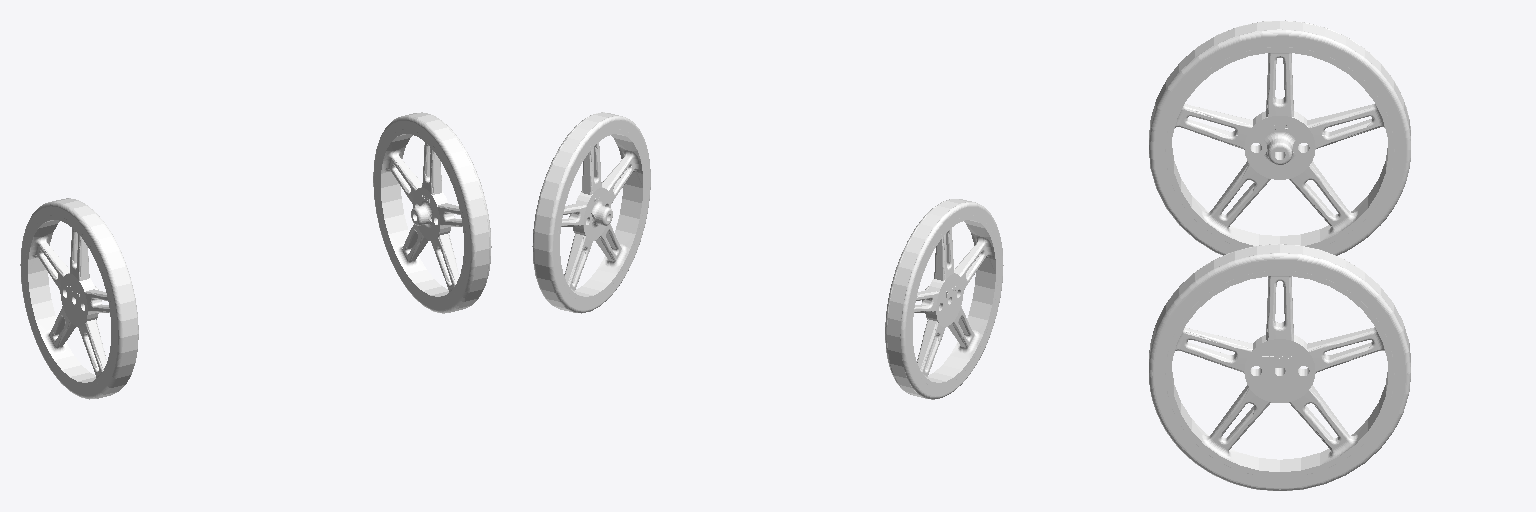
The robot description file, URDF, robot "romi_white":
<?xml version="1.0"?>
     <robot name="romi_white">

<!-- ~~~~~~~~~~~~~~~~ LINKS ~~~~~~~~~~~~~~~~ -->
<!-- LINK 1: CHASSIS BASE -->
<link name="chassis">
<origin xyz="0 0 0" rpy="0 0 0"/>
     <!-- COLLISION OF CHASSIS BASE -->
     <collision name="chassis_collision">
          <origin xyz="0.00975 0.078 0.0815" rpy="0 0 0"/>
          <geometry>
               <cylinder length="0.0195" radius="0.0815"/>
          </geometry>
     </collision>
     <!-- VISUAL OF CHASSIS BASE -->
     <visual name="chassis_visual">
          <origin xyz="0 0 0" rpy="0 0 0"/>
          <geometry>
               <mesh filename="model://romi/meshes/romi_base.dae"/>
          </geometry>
     </visual>
     <!-- INERTIA OF CHASSIS BASE -->
     <inertial name="chassis_inertia">
          <mass value="0.146"/>
          <inertia
               ixx="0.1"      ixy="0.0"      ixz="0.0"
               iyy="0.1"      iyz="0.0"      izz="0.1"/>
     </inertial>

<!-- FRONT CASTER -->
     <!-- COLLISION OF FRONT CASTER -->
     <collision name="caster_front_collision">
          <origin xyz="0.0115 0.0325 0.06774" rpy="0 0 0"/>
          <geometry>
               <cylinder length="0.007" radius="0.015"/>
          </geometry>
     </collision>
     <!-- VISUAL OF FRONT CASTER... N/A -->

<!-- FRONT CASTER BALL -->
     <!-- COLLISION OF FRONT CASTER BALL -->
     <collision name="caster_ball_front_collision">
          <origin xyz="0.0115 0.0325 0.06774" rpy="0 0 0"/>
          <geometry>
               <sphere radius="0.0127"/>
          </geometry>
     </collision>
     <!-- VISUAL OF FRONT CASTER BALL... N/A -->

<!-- BACK CASTER -->
     <!-- COLLISION OF BACK CASTER -->
     <collision name="caster_back_collision">
          <origin xyz="0.0115 0.1406 0.06774" rpy="0 0 0"/>
          <geometry>
               <cylinder length="0.007" radius="0.015"/>
          </geometry>
     </collision>
     <!-- VISUAL OF BACK CASTER... N/A -->

<!-- BACK CASTER BALL -->
     <!-- COLLISION OF BACK CASTER BALL -->
     <collision name="caster_back_ball_collision">
          <origin xyz="0.0115 0.1406 0.06774" rpy="0 0 0"/>
          <geometry>
               <sphere radius="0.0127"/>
          </geometry>
     </collision>
     <!-- VISUAL OF BACK CASTER BALL... N/A -->
</link>

<!-- LINK 2: LEFT WHEEL -->
<link name="wheel_l">
<origin xyz="0 0 0" rpy="0 0 0"/>
     <!-- COLLISION OF LEFT WHEEL -->
     <collision name="wheel_l_collision">
          <!-- <origin xyz="0.0815 0.077 0.091" rpy="0 1.5707 0"/> -->
          <origin xyz="0 0 0" rpy="0 1.5707 0"/>
          <geometry>
               <cylinder length="0.008" radius="0.035"/>
          </geometry>
     </collision>
     <!-- VISUAL OF LEFT WHEEL -->
     <visual name="wheel_l_visual">
          <origin xyz="-0.0815 -0.077 -0.091" rpy="0 0 0"/>
          <geometry>
               <mesh filename="model://romi/meshes/romi_wheel_left.dae"/>
          </geometry>
     </visual>
     <!-- INERTIA OF LEFT WHEEL -->
     <inertial name="wheel_l_inertia">
          <mass value="0.141748"/>
          <inertia
               ixx="0.0000441663143"      ixy="0.0"      ixz="0.0"
               iyy="0.0000441663143"      iyz="0.0"      izz="0.00008682065"/>
     </inertial>
</link>

<!-- LINK 3: RIGHT WHEEL -->
<link name="wheel_r">
<origin xyz="0 0 0" rpy="0 0 0"/>
     <!-- COLLISION OF RIGHT WHEEL -->
     <collision name="wheel_r_collision">
          <!-- <origin xyz="-0.06 0.077 0.091" rpy="0 1.5707 0"/> -->
          <origin xyz="0 0 0" rpy="0 1.5707 0"/>
          <geometry>
               <cylinder length="0.008" radius="0.035"/>
          </geometry>
     </collision>
     <!-- VISUAL OF RIGHT WHEEL -->
     <visual name="wheel_r_visual">
          <origin xyz="0.06 -0.077 -0.091" rpy="0 0 0"/>
          <geometry>
               <mesh filename="model://romi/meshes/romi_wheel_right.dae"/>
          </geometry>
     </visual>
     <!-- INERTIA OF RIGHT WHEEL -->
     <inertial name="wheel_r_inertia">
          <mass value="0.141748"/>
          <inertia
               ixx="0.0000441663143"      ixy="0.0"      ixz="0.0"
               iyy="0.0000441663143"      iyz="0.0"      izz="0.00008682065"/>
     </inertial>
</link>

<!-- ~~~~~~~~~~~~~~~~ JOINTS ~~~~~~~~~~~~~~~~ -->
<!-- JOINT 1: LEFT WHEEL -->
<joint name="wheel_l_joint" type="continuous">
     <origin xyz="0.0815 0.085 0.09" rpy="0 0 0"/>
     <parent link="chassis"/>
     <child link="wheel_l"/>
     <axis xyz="1 0 0"/>
     <limit effort="10" velocity="1.0"/>
</joint>

<!-- JOINT 2: RIGHT WHEEL -->
<joint name="wheel_r_joint" type="continuous">
     <origin xyz="-0.06 0.085 0.09" rpy="0 0 0"/>
     <parent link="chassis"/>
     <child link="wheel_r"/>
     <axis xyz="1 0 0"/>
     <limit effort="10" velocity="1.0"/>
</joint>
<!-- FIXED LEFT WHEEL FRAME
<joint name="base_to_wheel_l" type="fixed">
  <origin xyz="0.0815 0.077 0.085" rpy="0 0 0"/>
  <parent link="chassis"/>
  <child link="wheel_l"/>
</joint>
FIXED RIGHT WHEEL FRAME
<joint name="base_to_wheel_r" type="fixed">
  <origin xyz="0.0815 0.077 0.085" rpy="0 0 0"/>
  <parent link="chassis"/>
  <child link="wheel_r"/>
</joint> -->

<!-- ~~~~~~~~~~~~~~~~ GAZEBO REFERENCES ~~~~~~~~~~~~~~~~ -->
<!-- GAZEBO REFERENCE 1: LEFT WHEEL -->
<gazebo reference="wheel_l">
     <mu1 value="1"/>
     <mu2 value="1"/>
     <!-- <selfCollide>false</selfCollide> -->
</gazebo>

<!-- GAZEBO REFERENCE 2: RIGHT WHEEL -->
<gazebo reference="wheel_r">
     <mu1 value="1"/>
     <mu2 value="1"/>
     <!-- <selfCollide>false</selfCollide> -->
</gazebo>
<!-- ~~~~~~~~~~~~~~~~ TRANSMISSIONS ~~~~~~~~~~~~~~~~ -->
<!-- LEFT WHEEL TRANSMISSION -->
<transmission name="wheel_l_trans">
     <type>transmission_interface/SimpleTransmission</type>
     <actuator name="wheel_l_motor">
          <mechanicalReduction>1</mechanicalReduction>
     </actuator>
     <joint name="wheel_l_joint">
          <hardwareInterface>VelocityJointInterface</hardwareInterface>
     </joint>
</transmission>

<!-- RIGHT WHEEL TRANSMISSION -->
<transmission name="wheel_r_trans">
     <type>transmission_interface/SimpleTransmission</type>
     <actuator name="wheel_r_motor">
          <mechanicalReduction>1</mechanicalReduction>
     </actuator>
     <joint name="wheel_r_joint">
          <hardwareInterface>VelocityJointInterface</hardwareInterface>
     </joint>
</transmission>
<!-- ~~~~~~~~~~~~~~~~ PLUG-INS ~~~~~~~~~~~~~~~~ -->
<gazebo>
     <plugin name="gazebo_ros_control" filename="libgazebo_ros_control.so">
          <robotNamespace>/</robotNamespace>
     </plugin>
</gazebo>
</robot>

--- Facts derived from the render (not from the file) ---
Views: 3 orthographic renders of the robot side by side, from view 1: azimuth 30°, elevation 25°; view 2: azimuth 150°, elevation 25°; view 3: azimuth 270°, elevation 25°.
Robot: romi_white — 3 links, 2 joints (2 continuous); root link chassis; default pose: all joints at 0.
Visible links, largest first — view 1: wheel_l, wheel_r; view 2: wheel_l, wheel_r; view 3: wheel_l, wheel_r.
Boxes of the visible links, x1,y1,x2,y2 form: wheel_l: [373, 112, 491, 313]; wheel_r: [20, 198, 138, 399]; wheel_l: [532, 112, 650, 313]; wheel_r: [885, 199, 1003, 399]; wheel_l: [1149, 244, 1410, 490]; wheel_r: [1149, 20, 1410, 255].
Size in the robot's own frame: 0.1488 by 0.07 by 0.07 metres.
2 mesh visuals loaded from 3 distinct referenced files (2 Collada DAE); not drawn: 1 (reference not matched to a file when rendering).